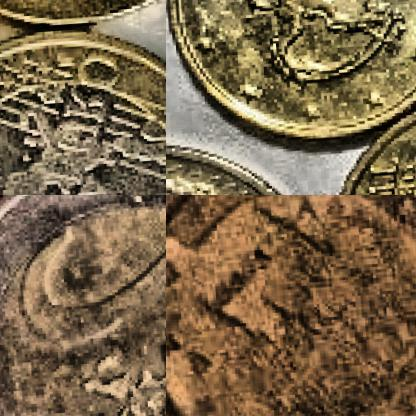coin: (166, 195, 415, 415), (166, 0, 415, 160), (0, 195, 165, 415), (0, 16, 165, 194)
